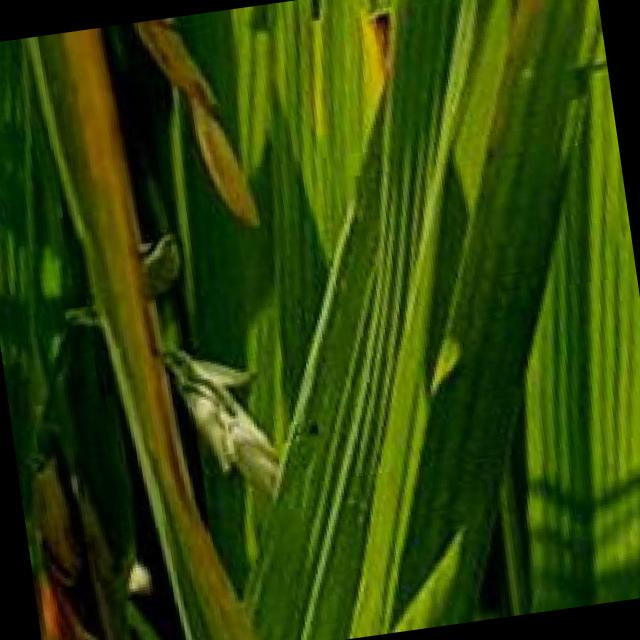Rice_Bacterial_Blight: (51, 26, 252, 634)
